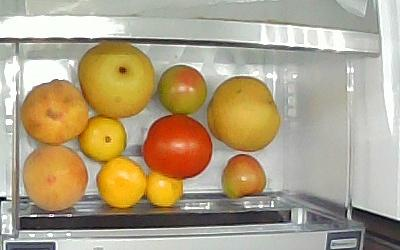peach: (22, 144, 89, 211), (21, 80, 88, 145)
pear: (77, 41, 156, 117), (208, 75, 283, 152)
tangerine: (97, 157, 146, 208), (79, 115, 126, 161), (147, 173, 187, 208)
tomato: (143, 115, 212, 181), (158, 64, 207, 116), (221, 155, 268, 197)
